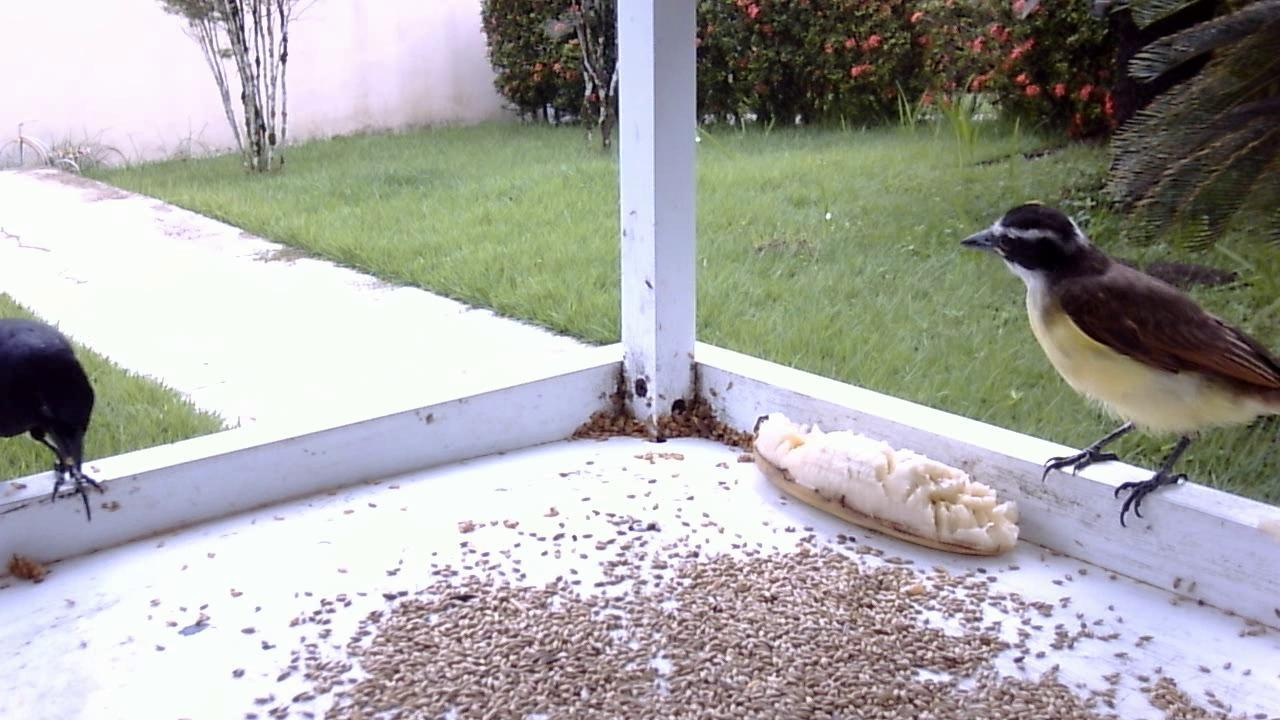bem_te_vi: (955, 192, 1277, 544)
chupim: (1, 311, 115, 521)
